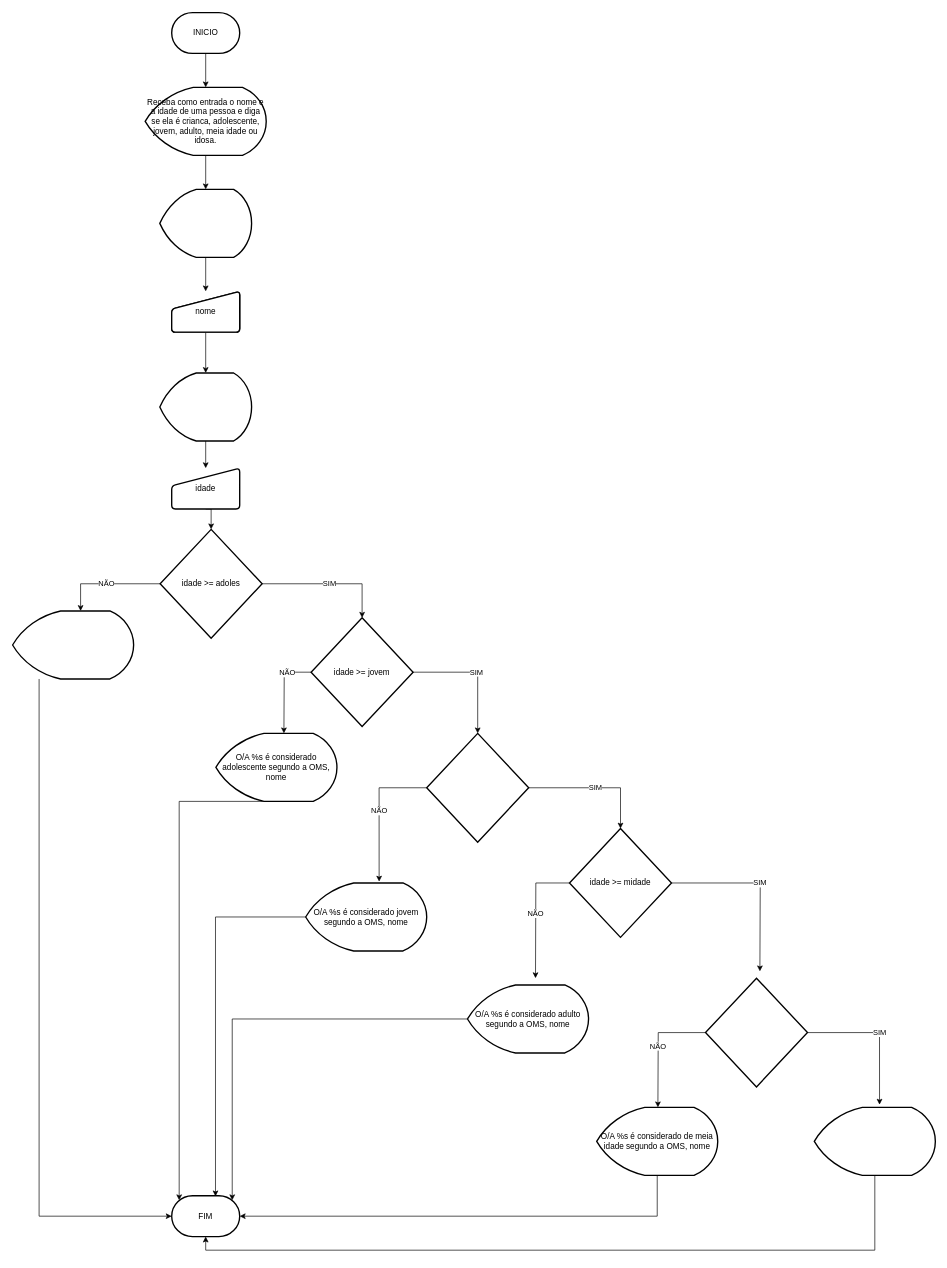
Some shapes in this 947 by 1268 pixel diagram are drawn without their labels. Each missing label, with the centre of its shape:
Digite a idade:: [205,406]
Digite o nome:: [205,223]
idade >= adulto: [477,787]
idade >= idoso: [756,1032]
O/A %s é considerado criança segundo a OMS, nome: [73,644]
O/A %s é considerado idoso segundo a OMS, nome: [874,1141]
